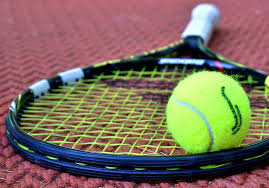tennis_ball: (165, 70, 251, 157)
